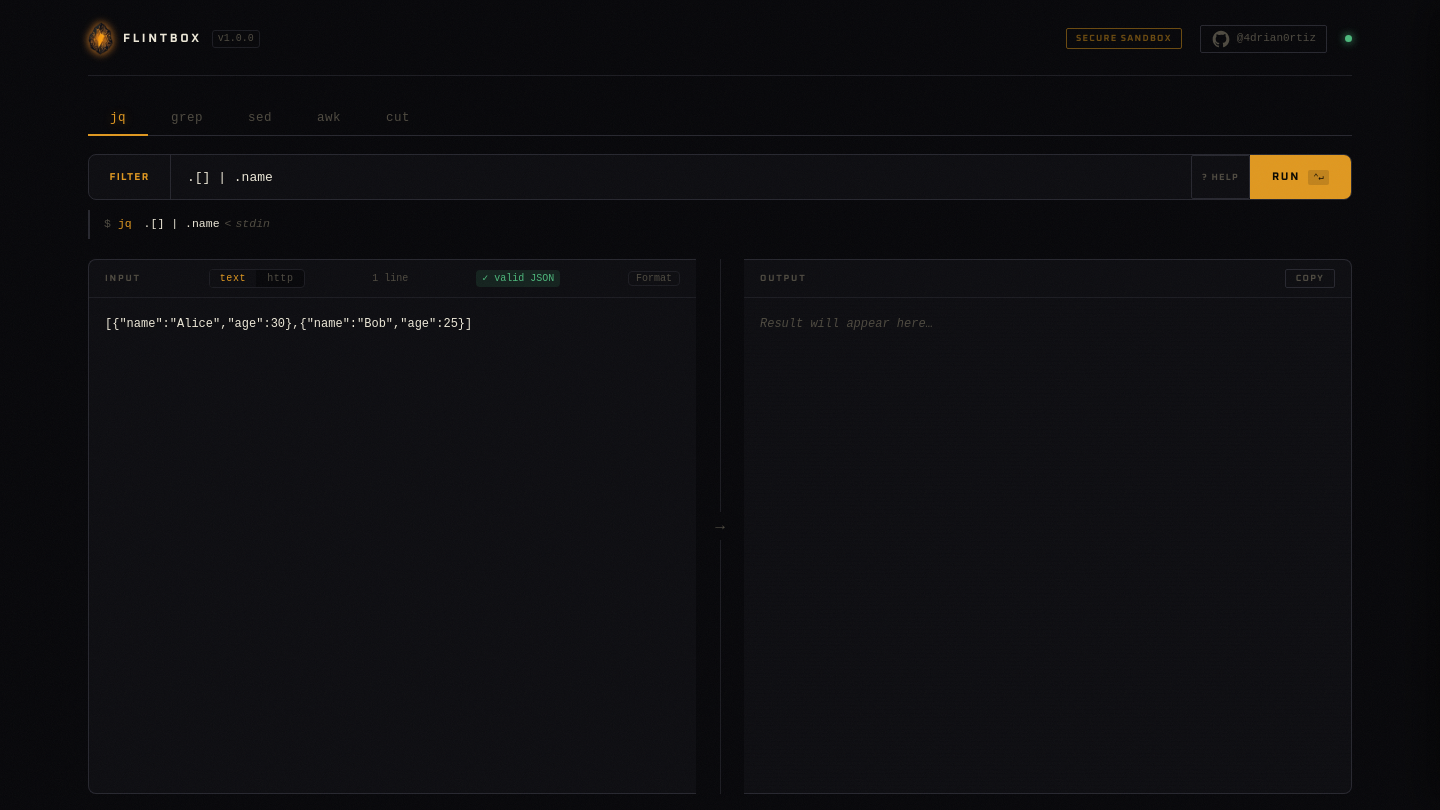
<App /> container › runs the current command through the api client and renders stdout
Click the button "Run ⌃↵". click: click(1300, 177)
box: [1250,155,1351,199]
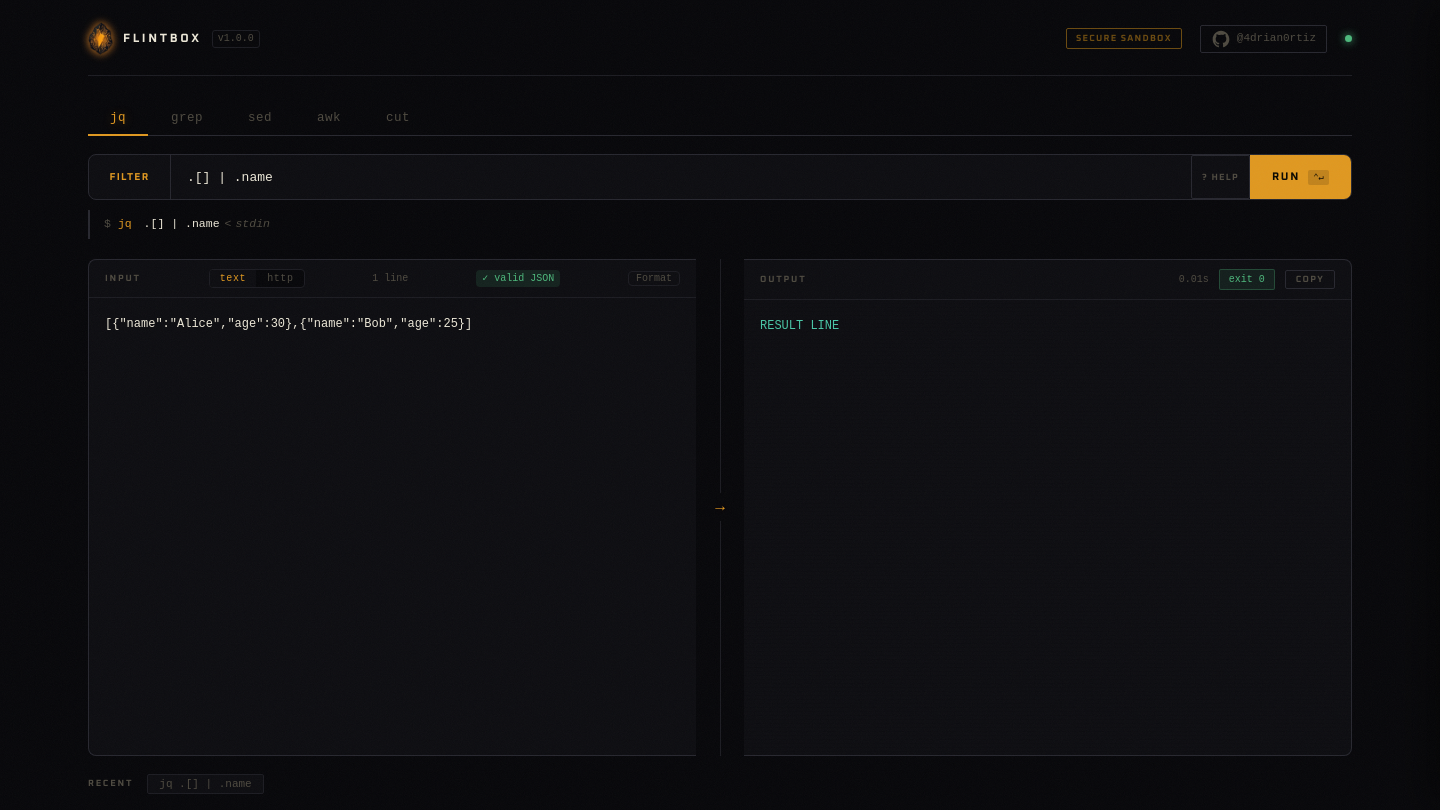
Expected: the text named "Command output" reads "RESULT LINE", [760,319,839,333]
Expected: the message reads "exit 0", [1229,274,1265,285]
